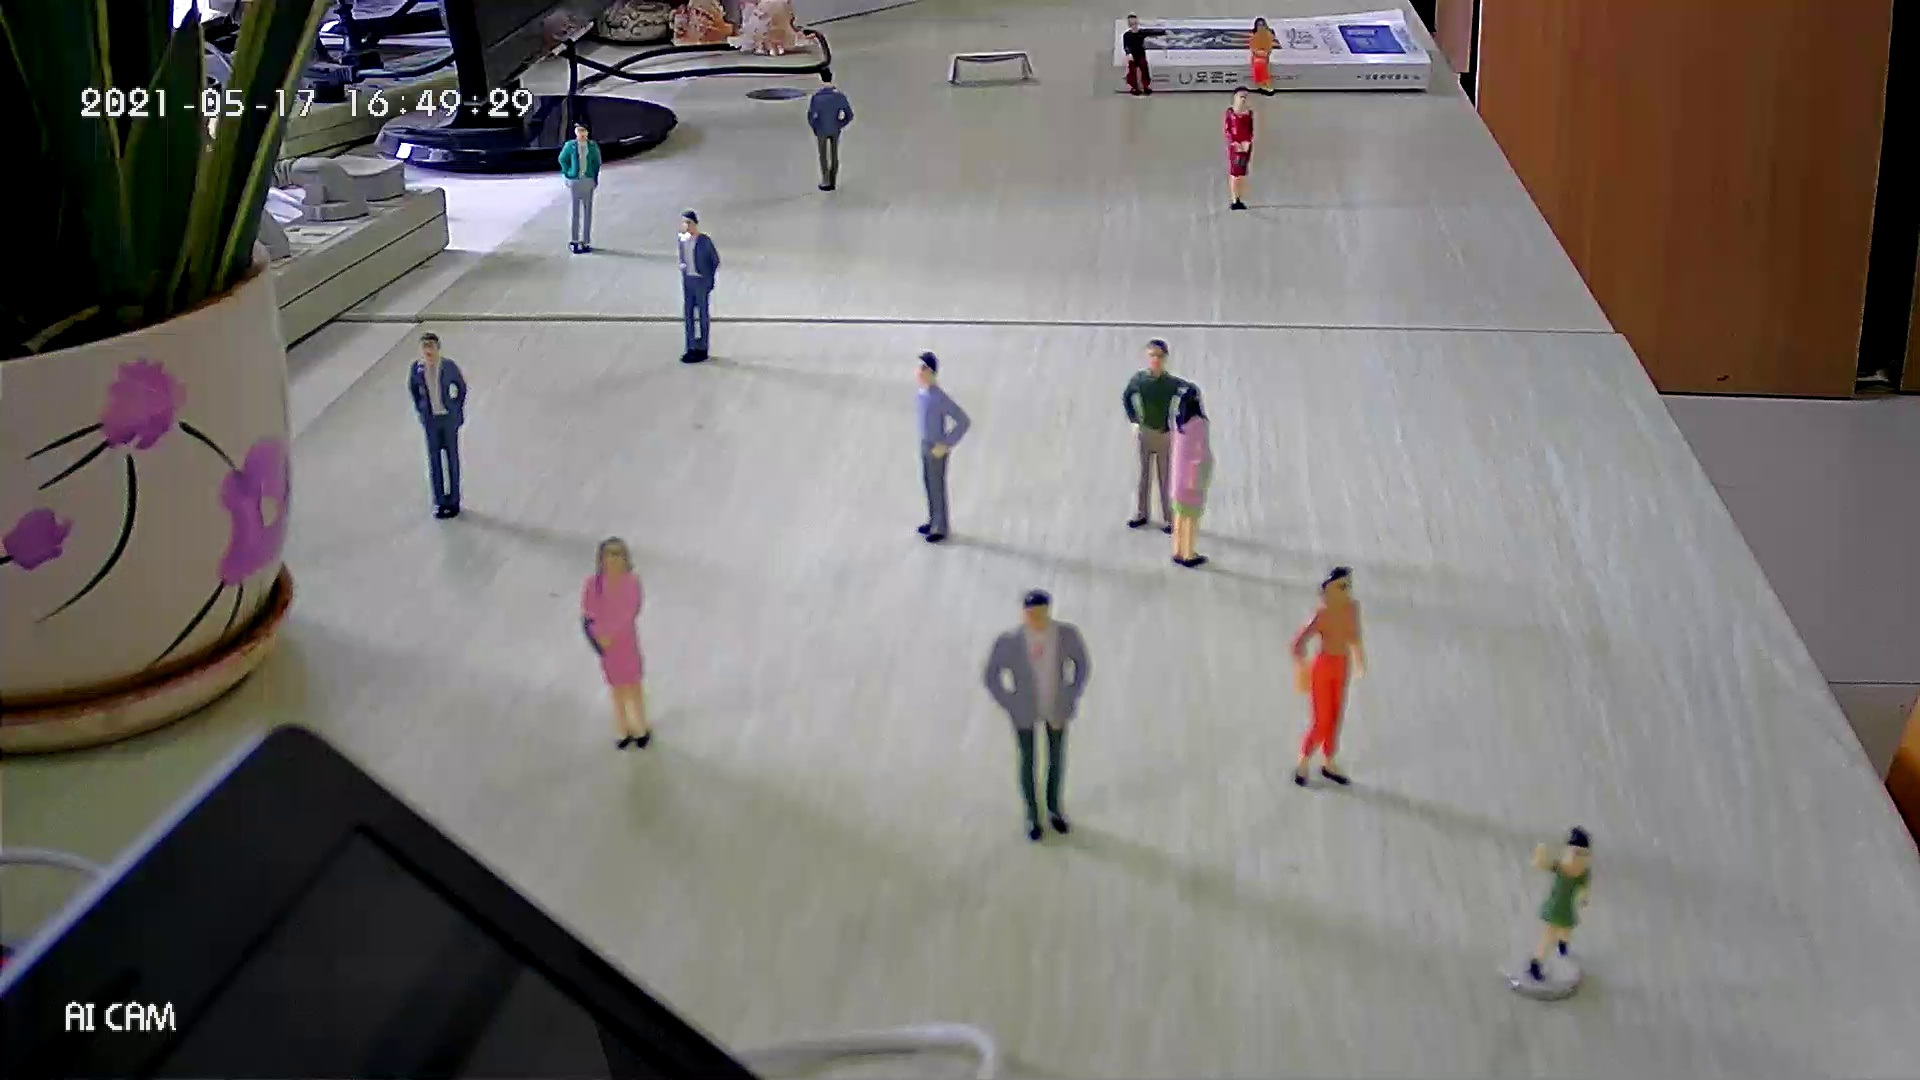person: (979, 584, 1095, 842), (1287, 560, 1373, 784), (577, 532, 657, 752), (1119, 334, 1189, 532), (403, 328, 471, 522), (909, 348, 973, 546), (1529, 824, 1599, 982), (1165, 380, 1219, 570), (673, 206, 723, 366), (805, 64, 855, 194), (557, 116, 603, 256), (1219, 82, 1259, 212), (1119, 14, 1175, 100), (1243, 14, 1283, 100)
